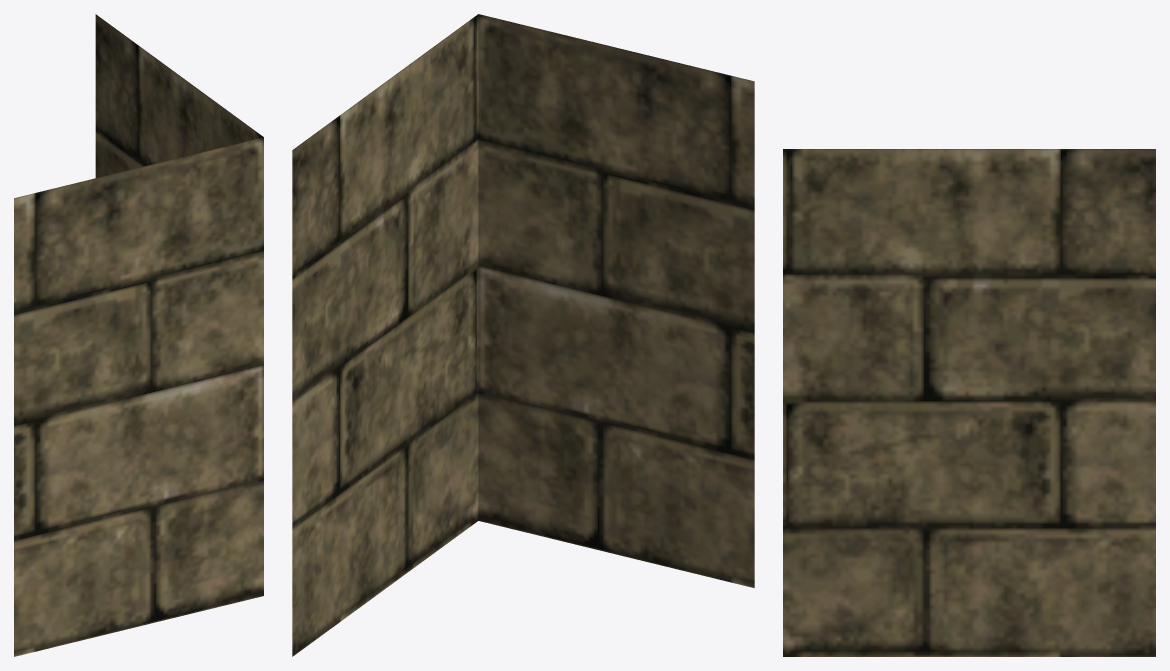
Rendered from OVERHILL_A_01_OBJECT67.fbx.
3 views of the same model, side by side, from view 1: azimuth 30°, elevation 25°; view 2: azimuth 150°, elevation 25°; view 3: azimuth 270°, elevation 25° (orthographic). The views are drawn at different scales.
Visible parts, largest first — view 1: OVERHILL_A_01_OBJECT67; view 2: OVERHILL_A_01_OBJECT67; view 3: OVERHILL_A_01_OBJECT67.
Part boxes in pixels (bbox=[...]): OVERHILL_A_01_OBJECT67: bbox=[14, 14, 263, 656]; OVERHILL_A_01_OBJECT67: bbox=[292, 14, 754, 656]; OVERHILL_A_01_OBJECT67: bbox=[783, 149, 1155, 656].
Bounding box in the file's own units: 12000 × 21050 × 14000.
Materials: 1 (1 with a texture image).
